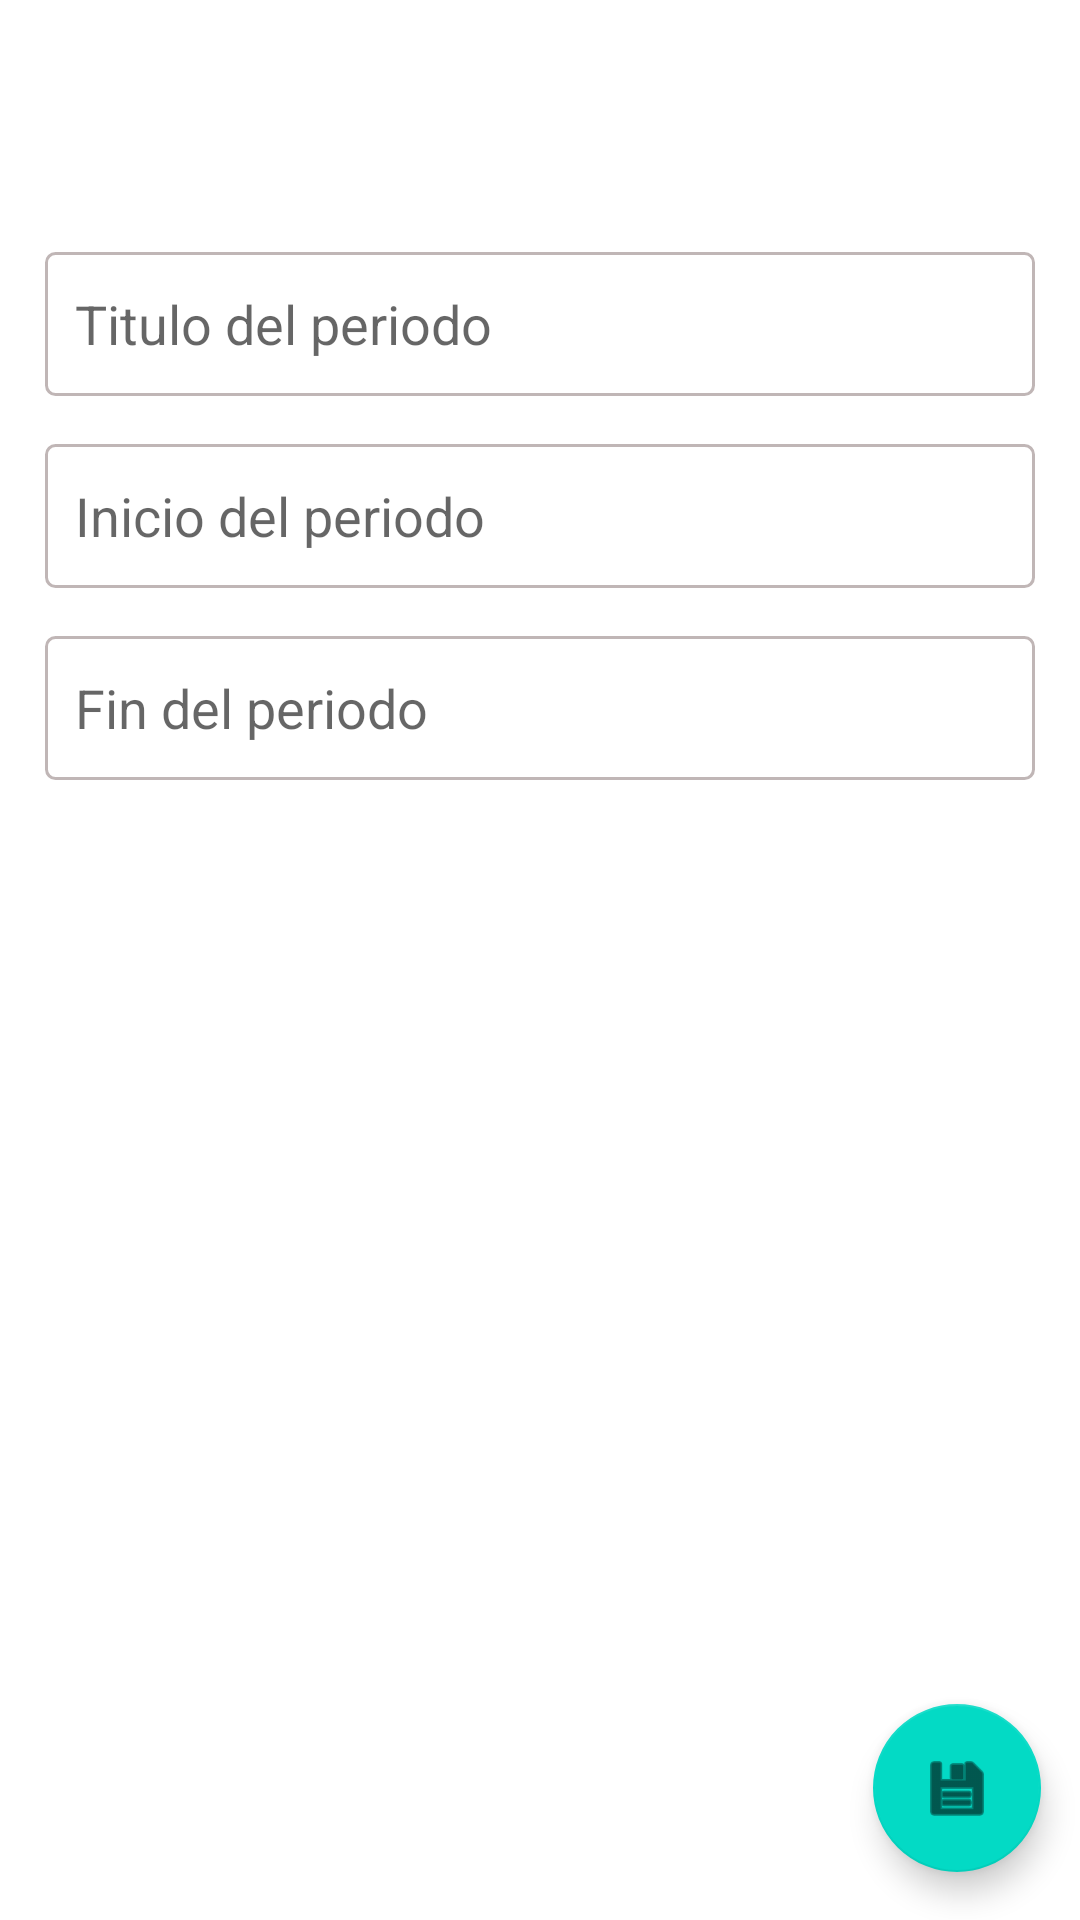

Locate icon controls on the screen. Image size 1080x1920, boxes as (x1, y1, x2, y2).
save: (873, 1704, 1041, 1872)
